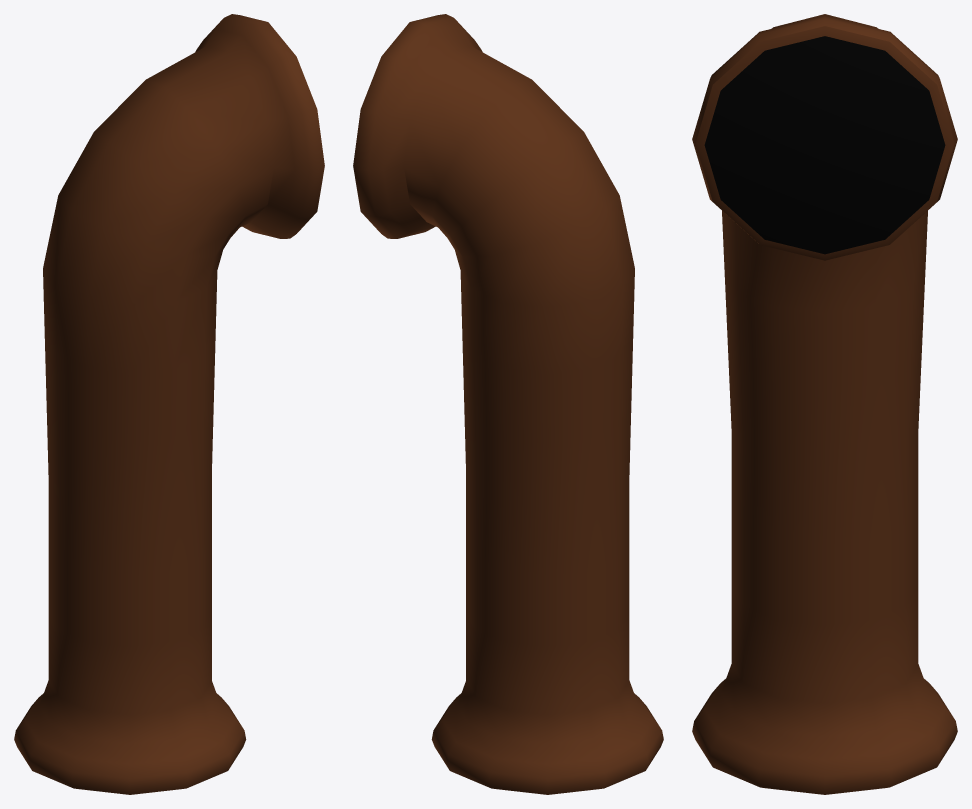
Rendered from Pipe_Curve_05x05_2m.fbx.
3 views of the same model, side by side, from view 1: azimuth 30°, elevation 25°; view 2: azimuth 150°, elevation 25°; view 3: azimuth 270°, elevation 25° (orthographic). The views are drawn at different scales.
Parts seen in each view (by area): view 1: Pipe_Curve_05x05_2m; view 2: Pipe_Curve_05x05_2m; view 3: Pipe_Curve_05x05_2m.
Part boxes in pixels (x1=…): Pipe_Curve_05x05_2m: x1=14, y1=14, x2=324, y2=794; Pipe_Curve_05x05_2m: x1=353, y1=14, x2=663, y2=794; Pipe_Curve_05x05_2m: x1=692, y1=14, x2=957, y2=794.
Bounding box in the file's own units: 85.53 × 236 × 71.06.
